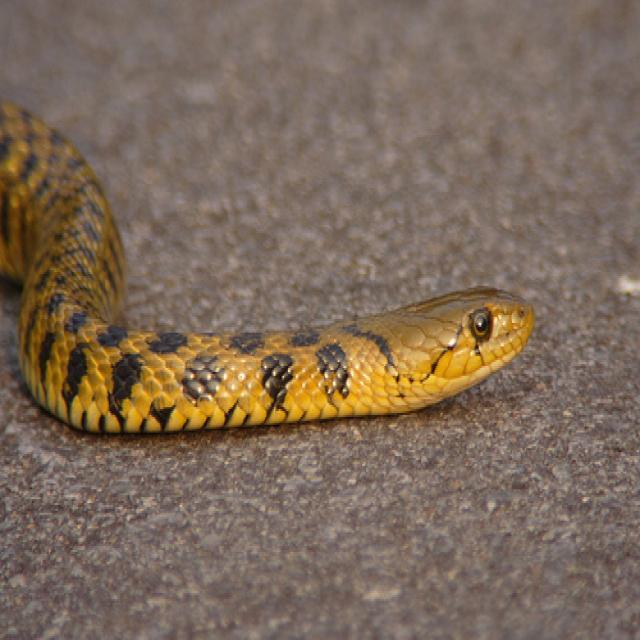Snake: (0, 96, 535, 434)
